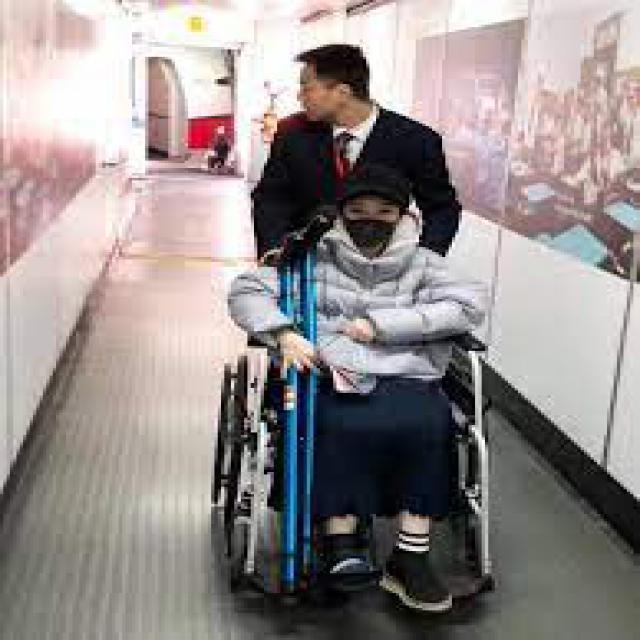wheelchairs: (198, 260, 538, 622)
